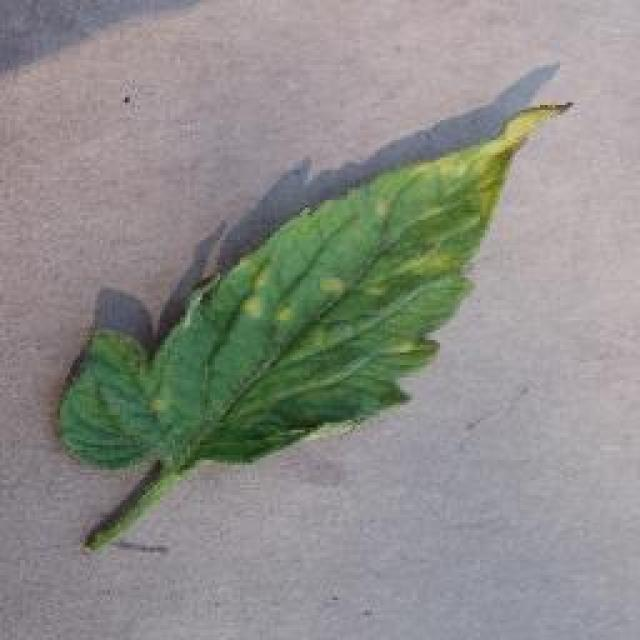Tomato mold leaf: (59, 99, 574, 471)
